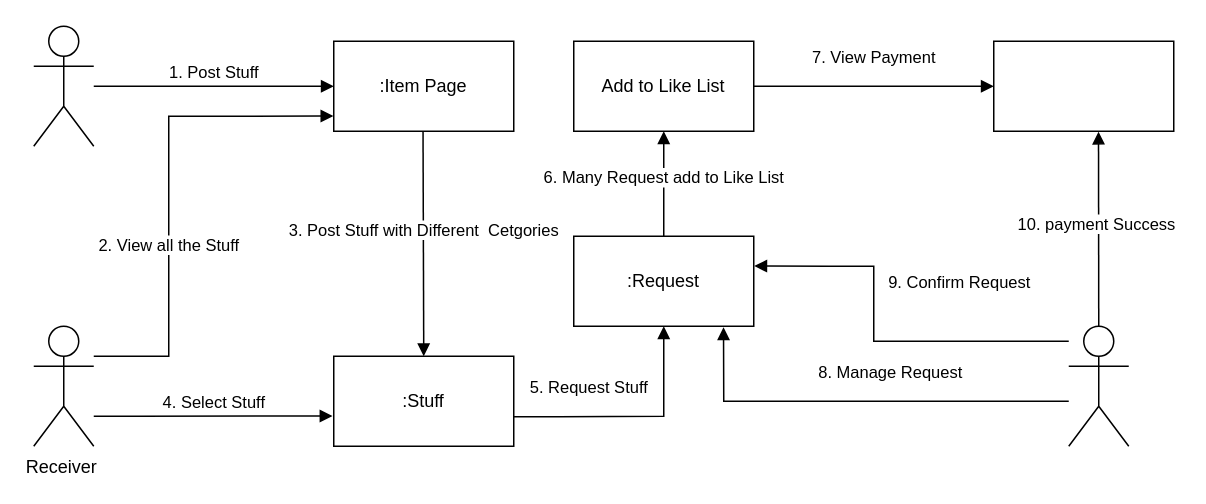
Some shapes in this 1206 by 504 pixel diagram are drawn without their labels. Here are the shapes that lost their labels. From the top down, the centre of each, then its label:
At (63,85): "Sender".
At (1083,85): ":Payment".
At (1098,385): "Admin".
